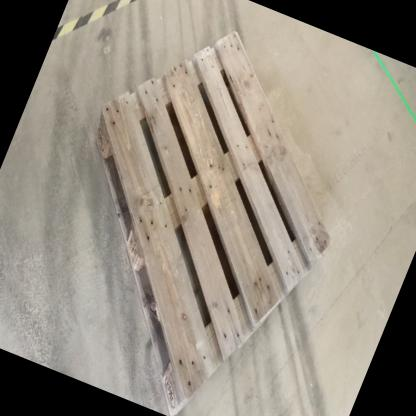BoxFace: (89, 22, 337, 416)
